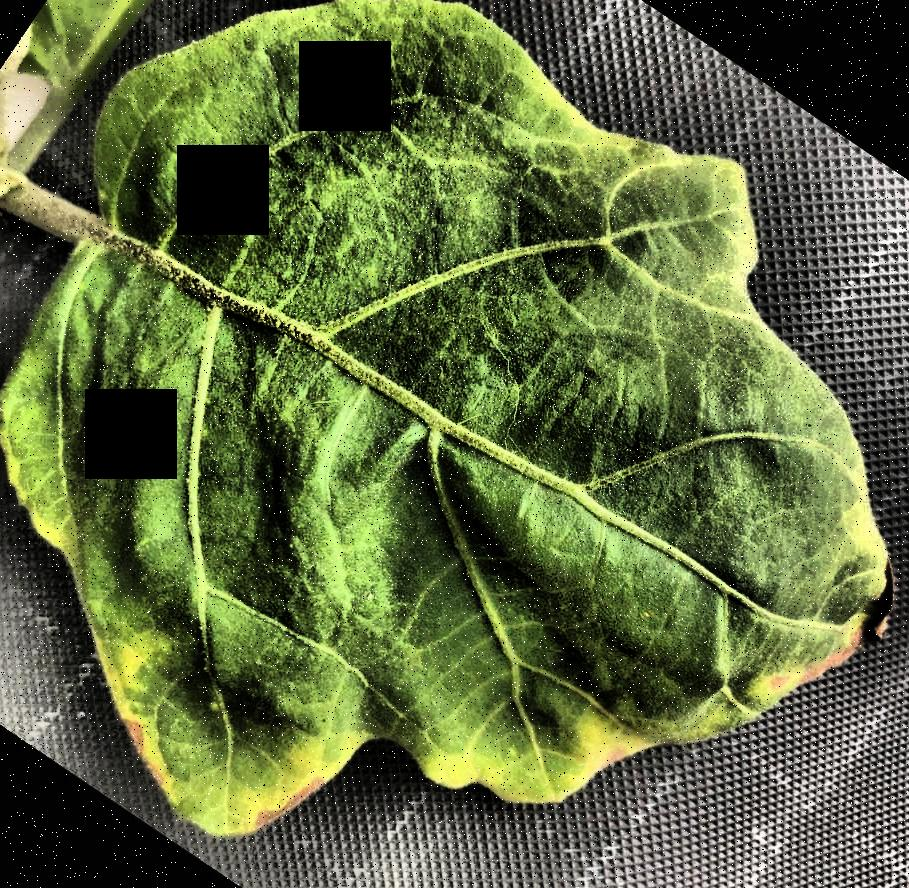Critical Stress: (1, 0, 909, 888)
